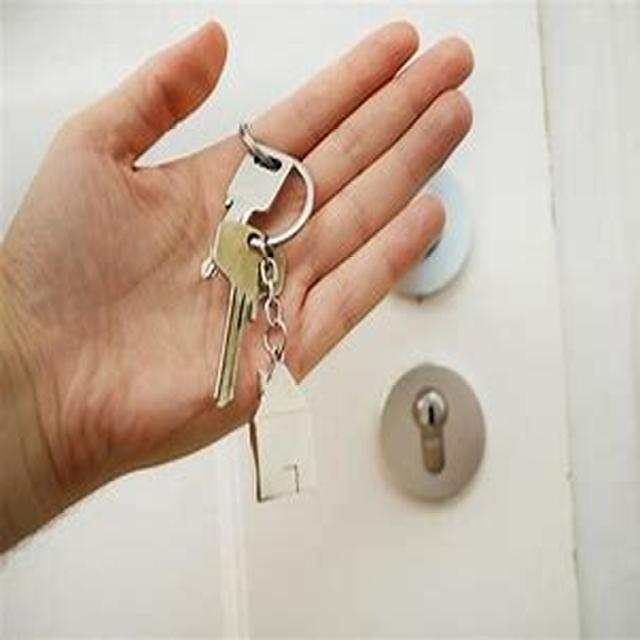key: (178, 138, 354, 506)
